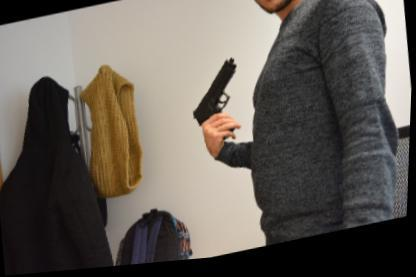pistol: (186, 58, 247, 149)
